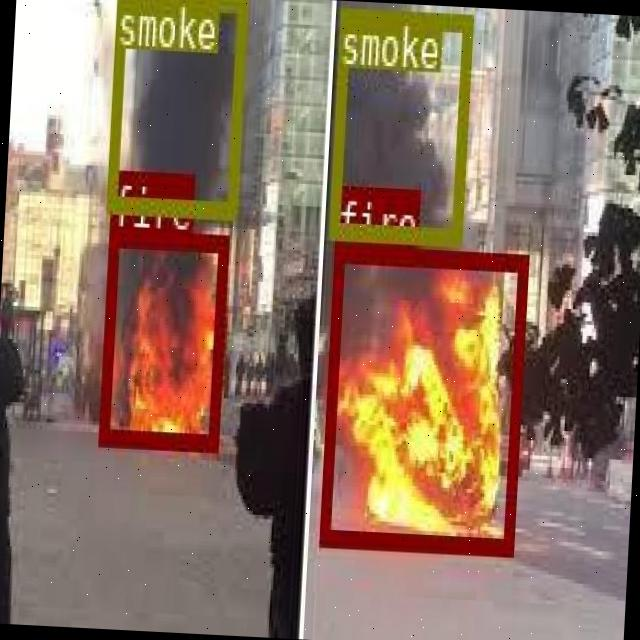fire: (318, 244, 526, 550), (98, 227, 226, 448)
smoke: (328, 4, 472, 242), (105, 0, 246, 213)
